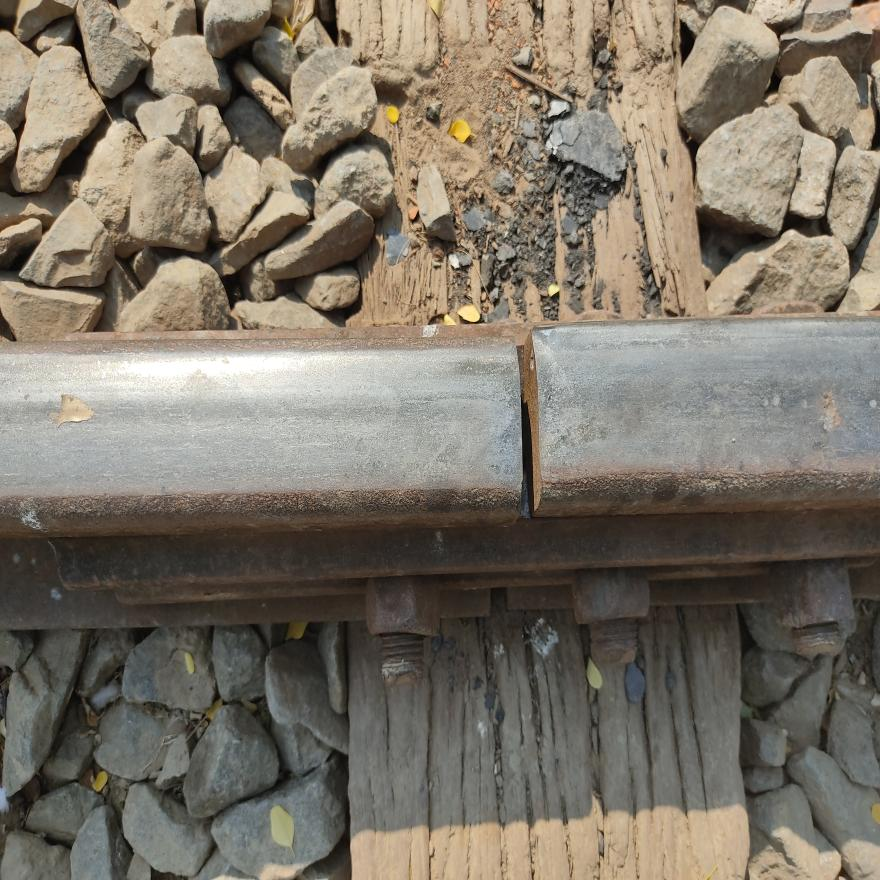railway-gap: (417, 306, 640, 561)
